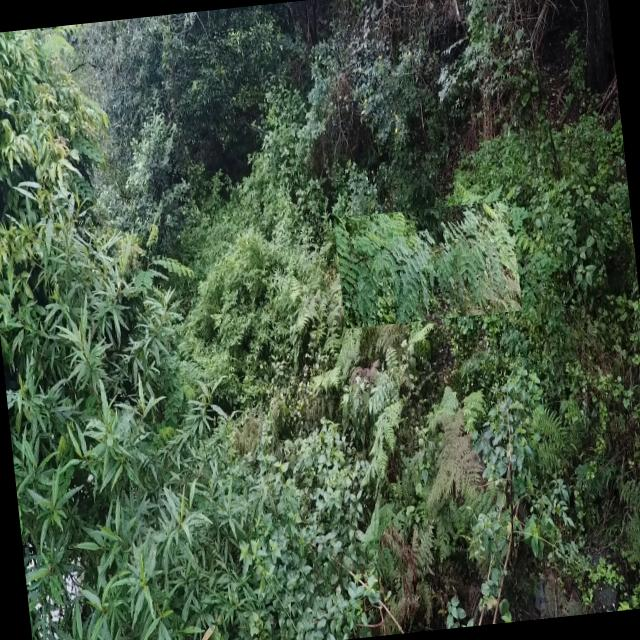Mysore-Thorn-Weed: (334, 200, 522, 328)
